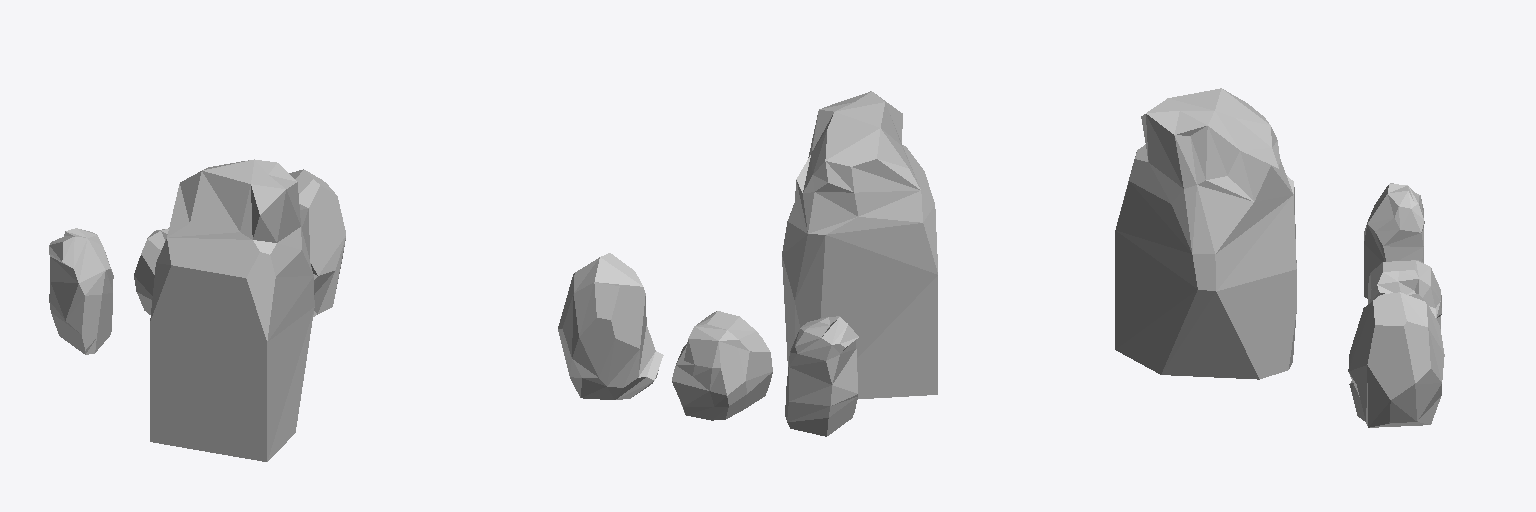
The model's file is rocks_low.obj.
3 views of the same model, side by side, from view 1: azimuth 30°, elevation 25°; view 2: azimuth 150°, elevation 25°; view 3: azimuth 270°, elevation 25° (orthographic).
Parts seen in each view (by area): view 1: Cube.003_low, Cube_low, Icosphere_low, Cube.001_low; view 2: Cube.003_low, Icosphere_low, Cube.001_low, Cube_low; view 3: Cube.003_low, Icosphere_low, Cube_low, Cube.001_low.
Part boxes in pixels (bbox=[...]): Cube.003_low: bbox=[150, 159, 314, 461]; Cube_low: bbox=[49, 228, 113, 354]; Icosphere_low: bbox=[289, 169, 345, 316]; Cube.001_low: bbox=[134, 228, 168, 314]; Cube.003_low: bbox=[782, 91, 937, 398]; Icosphere_low: bbox=[558, 253, 663, 399]; Cube.001_low: bbox=[672, 311, 772, 420]; Cube_low: bbox=[785, 316, 858, 436]; Cube.003_low: bbox=[1115, 88, 1296, 379]; Icosphere_low: bbox=[1348, 292, 1444, 427]; Cube_low: bbox=[1364, 183, 1424, 298]; Cube.001_low: bbox=[1368, 260, 1441, 328].
Bounding box in the file's own units: 80.97 × 69.84 × 80.98.